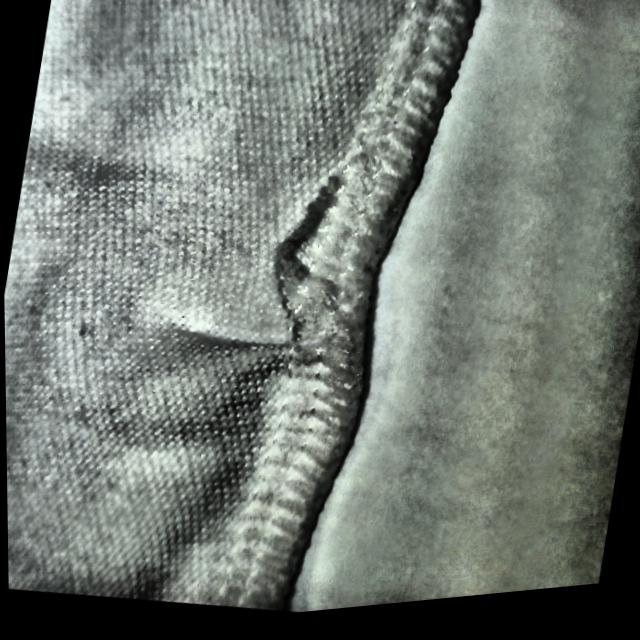seam: (162, 155, 401, 420)
